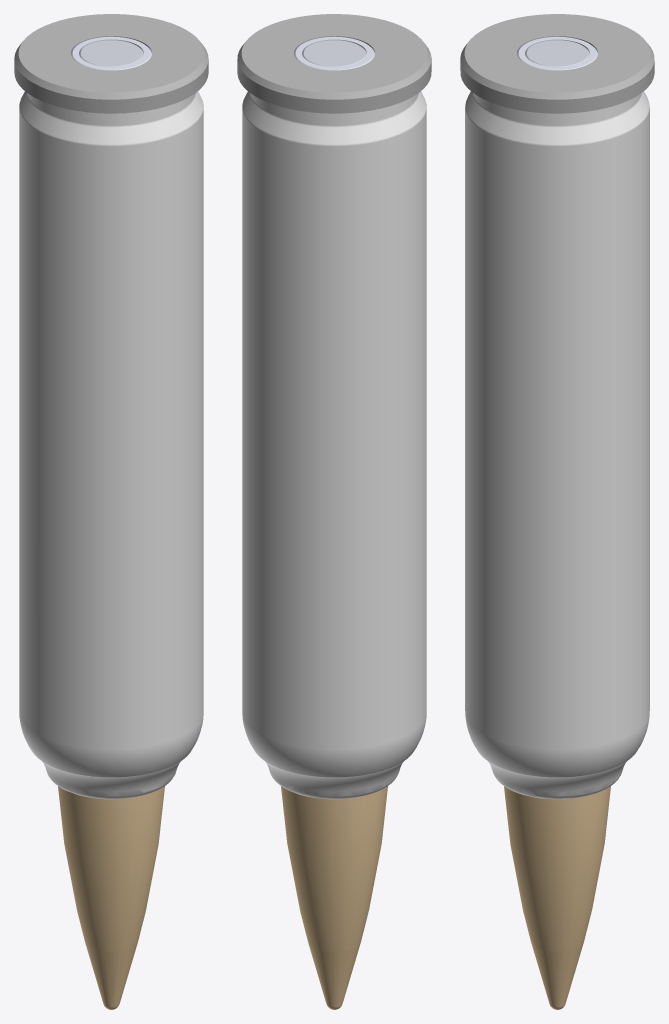
The model's file is tvcm-68.glb.
3 renders of one model, left to right at view 1: azimuth 30°, elevation 25°; view 2: azimuth 150°, elevation 25°; view 3: azimuth 270°, elevation 25°, orthographic.
Parts seen in each view (by area): view 1: Casing - TVCM 6.8mm, Bullet - TVCM 6.8mm, Insert - TVCM 6.8mm, Primer Inner - TVCM 6.8mm, Primer Outer - TVCM 6.8mm; view 2: Casing - TVCM 6.8mm, Bullet - TVCM 6.8mm, Insert - TVCM 6.8mm, Primer Inner - TVCM 6.8mm, Primer Outer - TVCM 6.8mm; view 3: Casing - TVCM 6.8mm, Bullet - TVCM 6.8mm, Insert - TVCM 6.8mm, Primer Inner - TVCM 6.8mm, Primer Outer - TVCM 6.8mm.
Part boxes in pixels (x1,y1,x2,y2): Casing - TVCM 6.8mm: (19,91,203,799); Bullet - TVCM 6.8mm: (58,786,164,1009); Insert - TVCM 6.8mm: (14,14,208,113); Primer Inner - TVCM 6.8mm: (79,40,143,66); Primer Outer - TVCM 6.8mm: (71,36,151,70); Casing - TVCM 6.8mm: (242,91,426,799); Bullet - TVCM 6.8mm: (281,786,387,1009); Insert - TVCM 6.8mm: (237,14,431,113); Primer Inner - TVCM 6.8mm: (302,40,366,66); Primer Outer - TVCM 6.8mm: (294,36,374,70); Casing - TVCM 6.8mm: (465,91,649,799); Bullet - TVCM 6.8mm: (504,786,610,1009); Insert - TVCM 6.8mm: (460,14,654,113); Primer Inner - TVCM 6.8mm: (525,40,589,66); Primer Outer - TVCM 6.8mm: (517,36,597,70).
Bounding box in the file's own units: 0.0119 × 0.0649 × 0.0119.
